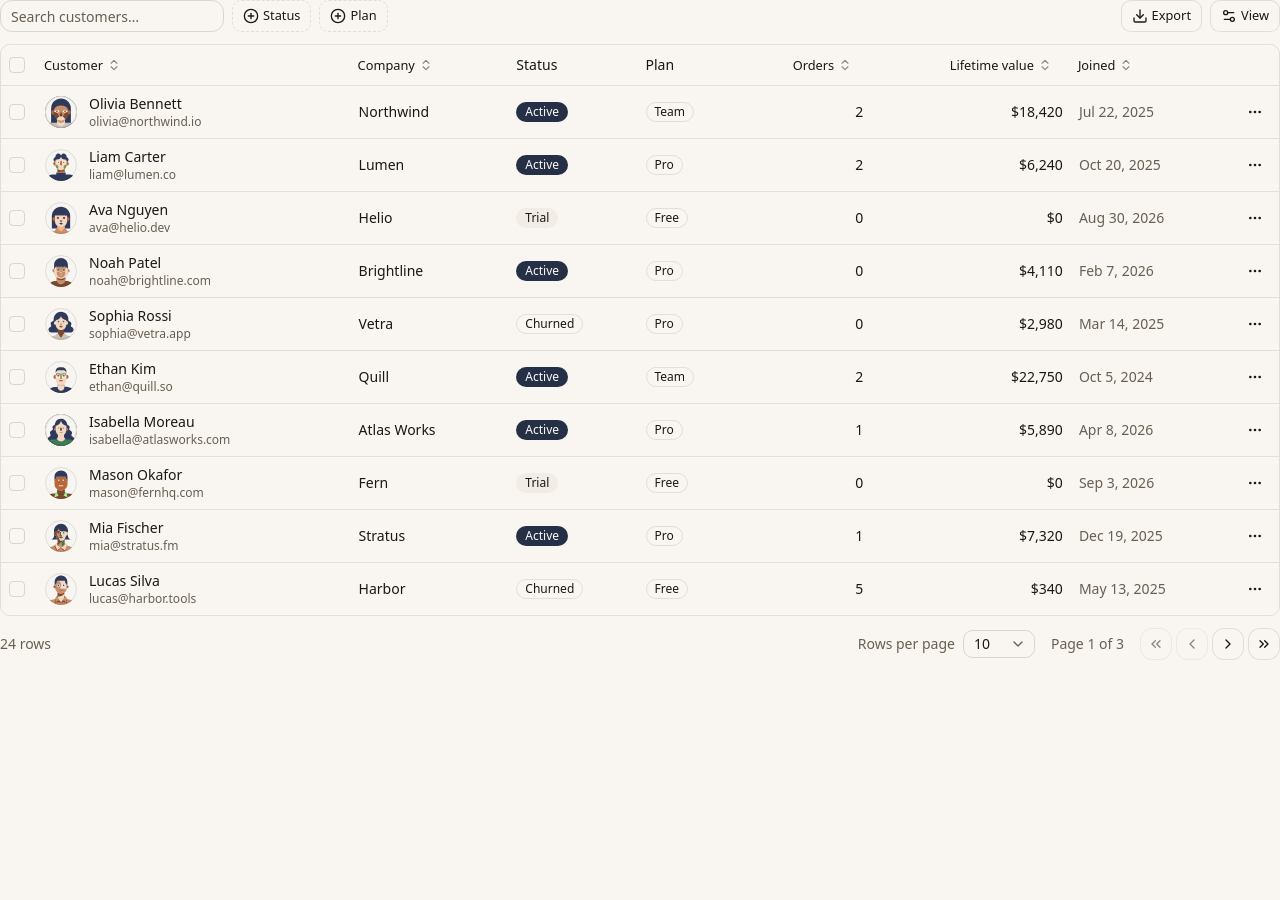
Test case: CustomersTable › opens a detail sheet on row click
Click the text "Olivia Bennett": (135, 103) [89,94,182,112]
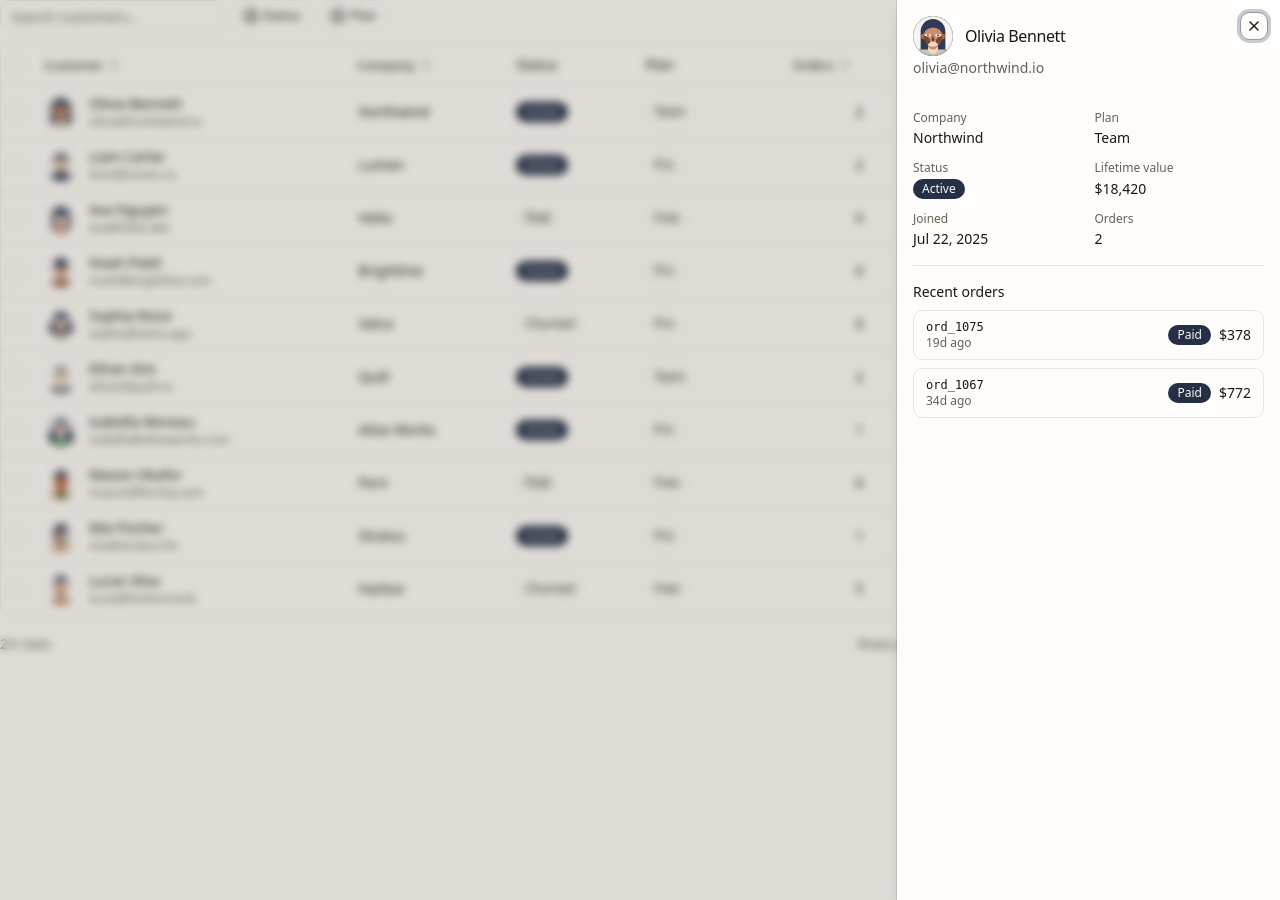
Expected: the text "olivia@northwind.io" is shown, [913,58,1044,77]
